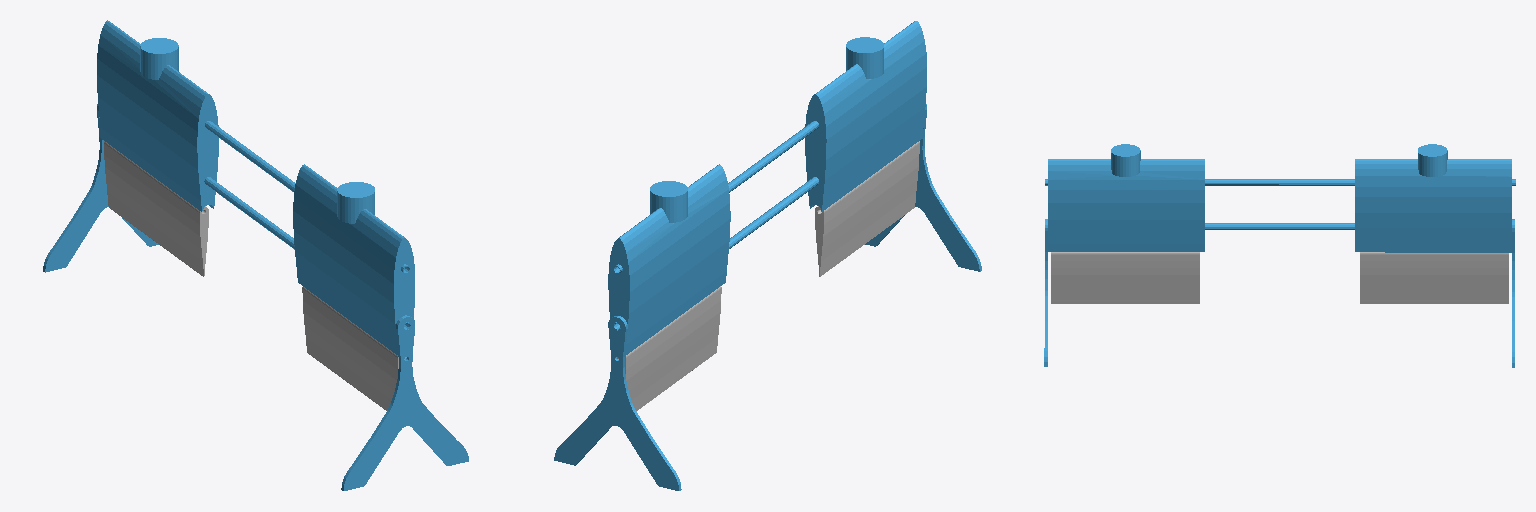
robot.urdf — tern:
<?xml version="1.0" ?>
<robot name="tern">
 <!-- <origin rpy="0 0 0" xyz="0 0 0.2"/> -->
   <link name="base_link"></link>
  <link name="base_link_inertia">
    <!-- <origin rpy="0 0 0" xyz="0 0 0.14"> -->
    <inertial>
      <mass value="0.5"/>
      <origin rpy="0  0  0" xyz="0     0     0.157"/>
      <inertia ixx="0.0147563" ixy="0" ixz="0" iyy="0.00638929" iyz="0" izz="0.0177"/>
    </inertial>
    <collision name="base_link_collision">
      <origin rpy="0  0  0" xyz="0    0    0"/>
      <geometry>
        <box size="0.15 0.63 0.28"/>
      </geometry>
    </collision>
    <visual name="base_link_visual">
      <origin rpy="0   -1.57  1.57" xyz="-0.116  0.345  -0.128"/>
      <geometry>
        <mesh filename="package://urdf_tutorial/meshes/frame.dae" scale="0.001 0.001 0.001"/>
      </geometry>
    </visual>
    <visual name="m0">
      <origin rpy="0  0  0" xyz="0    -0.205  0.13"/>
      <geometry>
        <cylinder length="0.03" radius="0.02"/>
      </geometry>
    </visual>
    <visual name="m1">
      <origin rpy="0  0  0" xyz="0     0.205  0.13"/>
      <geometry>
        <cylinder length="0.03" radius="0.02"/>
      </geometry>
    </visual>
  </link>
  <joint name="tern/base_joint" type="fixed">
    <parent link="base_link"/>
    <child link="base_link_inertia"/>
    <origin rpy="0  0  0" xyz="0 0 0"/>
  </joint>
  <link name="imu_link">
    <inertial>
      <mass value="0.015"/>
      <origin rpy="0  0  0" xyz="0  0  0"/>
      <inertia ixx="1e-05" ixy="0" ixz="0" iyy="1e-05" iyz="0" izz="1e-05"/>
    </inertial>
  </link>
  <link name="rotor_left">
    <inertial>
      <mass value="0.005"/>
      <origin rpy="0  0  0" xyz="0 -0.205 0.17"/>
      <!-- <inertia ixx="9.75e-07" ixy="0" ixz="0" iyy="0.000166704" iyz="0" izz="0.000167604"/> -->
      <inertia ixx="9.75e-07" ixy="0" ixz="0" iyy="0.000166704" iyz="0" izz="0.000167604"/>
    </inertial>
    <collision name="rotor_left_collision">
      <origin rpy="0  0  0" xyz="0 0 0"/>
      <geometry>
        <cylinder length="0.005" radius="0.1"/>
      </geometry>
    </collision>
    <visual name="rotor_left_visual">
      <origin rpy="0  0  0" xyz="0.00059  -0 0"/>
      <geometry>
        <mesh filename="package://urdf_tutorial/meshes/iris_prop_cw.dae" scale="1 1 1"/>
      </geometry>
    </visual>
  </link>
  <link name="rotor_right">
    <inertial>
      <mass value="0.005"/>
      <origin rpy="0  0  0" xyz="0 0.205 0.17"/>
      <!-- <inertia ixx="9.75e-07" ixy="0" ixz="0" iyy="0.000166704" iyz="0" izz="0.000167604"/> -->
      <inertia ixx="9.75e-07" ixy="0" ixz="0" iyy="0.000166704" iyz="0" izz="0.000167604"/>
    </inertial>
    <collision name="rotor_right_collision">
      <origin rpy="0  0  0" xyz="0 0 0"/>
      <geometry>
        <cylinder length="0.005" radius="0.1"/>
      </geometry>
    </collision>
    <visual name="rotor_right_visual">
      <origin rpy="0  0  0" xyz="0.00449 0 0"/>
      <geometry>
        <mesh filename="package://urdf_tutorial/meshes/iris_prop_ccw.dae" scale="1 1 1"/>
      </geometry>
    </visual>
  </link>
  <link name="left_elevon">
    <inertial>
      <mass value="0.001"/>
      <origin rpy="0  0  0" xyz="0      -0.225    0"/>
      <inertia ixx="0.0001" ixy="0.0" ixz="0.0" iyy="0.0001" iyz="0.0" izz="0.0001"/>
    </inertial>
    <visual name="left_elevon_visual">
      <origin rpy="0    1.57079  1.57079" xyz="0.005 -0.31  0.133"/>
      <geometry>
        <mesh filename="package://urdf_tutorial/meshes/elevon_2.dae" scale="0.001 0.001 0.001"/>
      </geometry>
    </visual>
    <!--
    <collision>
        <origin rpy="0 0 0" xyz="0 -0.31 0.13"/>
        <geometry>
            <box size="0.0114356 0.19935 0.0811021" />
        </geometry>
    </collision>
    -->
  </link>
  <link name="right_elevon">
    <inertial>
      <mass value="0.001"/>
      <origin rpy="0  0  0" xyz="0       0.225    0"/>
      <inertia ixx="0.0001" ixy="0.0" ixz="0.0" iyy="0.0001" iyz="0.0" izz="0.0001"/>
    </inertial>
    <visual name="right_elevon_visual">
      <origin rpy="0    1.57079  1.57079" xyz="0.005 -0.347 0.133"/>
      <geometry>
        <mesh filename="package://urdf_tutorial/meshes/elevon_2.dae" scale="0.001 0.001 0.001"/>
      </geometry>
    </visual>
    <!--
    <collision>
        <origin rpy="0 0 0" xyz="0 0.31 0.13"/>
        <geometry>
            <box size="0.0114356 0.19935 0.0811021" />
        </geometry>
    </collision>
    -->
  </link>
  <joint name="tern/imu_joint" type="fixed">
    <parent link="base_link"/>
    <child link="imu_link"/>
    <origin rpy="0  0  0" xyz="0     0     0"/>
    <axis xyz="0  0  0"/>
    <limit effort="0" lower="0" upper="0" velocity="0"/>
  </joint>
  <joint name="left_rotor_joint" type="continuous">
    <parent link="base_link"/>
    <child link="rotor_left"/>
    <origin rpy="0  0  0" xyz="0    -0.205  0.152"/>
    <axis xyz="0  0  1"/>
    <limit effort="1.0" lower="-1000" upper="1000" velocity="1000.0"/>
    <!-- <dynamics damping="0.01" friction="0.0" /> -->
  </joint>
  <joint name="right_rotor_joint" type="continuous">
    <parent link="base_link"/>
    <child link="rotor_right"/>
    <origin rpy="0  0  0" xyz="0     0.205  0.152"/>
    <axis xyz="0  0  1"/>
    <limit effort="1.0" lower="-1000" upper="1000" velocity="1000.0"/>
    <!-- <dynamics damping="0.01" friction="0.0" /> -->
  </joint>
  <joint name="left_elevon_joint" type="revolute">
    <parent link="base_link"/>
    <child link="left_elevon"/>
    <origin rpy="0  0  0" xyz="0   -0.225325  -0.005"/>
    <axis xyz="0  1  0"/>
    <limit effort="0.1" lower="-1.57" upper="1.57" velocity="100.0"/>
  </joint>
  <joint name="right_elevon_joint" type="revolute">
    <parent link="base_link"/>
    <child link="right_elevon"/>
    <origin rpy="0  0  0" xyz="0    0.225325  -0.005"/>
    <axis xyz="0  1  0"/>
    <limit effort="0.1" lower="-1.57" upper="1.57" velocity="100.0"/>
  </joint>
  
  <transmission name="left_rotor_tran">
    <type>transmission_interface/SimpleTransmission</type>
    <joint name="left_rotor_joint">
        <hardwareInterface>hardware_interface/EffortJointInterface</hardwareInterface>
    </joint>
    <actuator name="left_rotor_actuator">
        <hardwareInterface>hardware_interface/EffortActuatorInterface</hardwareInterface>
    </actuator>
  </transmission>
  
  <transmission name="right_rotor_tran">
    <type>transmission_interface/SimpleTransmission</type>
    <joint name="right_rotor_joint">
        <hardwareInterface>hardware_interface/EffortJointInterface</hardwareInterface>
    </joint>
    <actuator name="right_rotor_actuator">
        <hardwareInterface>hardware_interface/EffortActuatorInterface</hardwareInterface>
    </actuator>
  </transmission>
  
  <transmission name="left_elevon_tran">
    <type>transmission_interface/SimpleTransmission</type>
    <joint name="left_elevon_joint">
        <hardwareInterface>hardware_interface/EffortJointInterface</hardwareInterface>
    </joint>
    <actuator name="left_elevon_actuator">
        <hardwareInterface>hardware_interface/EffortJointInterface</hardwareInterface>
        <mechanicalReduction>1</mechanicalReduction>
    </actuator>
  </transmission>
  
  <transmission name="right_elevon_tran">
    <type>transmission_interface/SimpleTransmission</type>
    <joint name="right_elevon_joint">
        <hardwareInterface>hardware_interface/EffortJointInterface</hardwareInterface>
    </joint>
    <actuator name="right_elevon_actuator">
        <hardwareInterface>hardware_interface/EffortJointInterface</hardwareInterface>
        <mechanicalReduction>1</mechanicalReduction>
    </actuator>
  </transmission>
  
  <gazebo>
  <plugin name="gazebo_ros_control" filename="libgazebo_ros_control.so">
    <robotNamespace>/tern</robotNamespace>
  </plugin>
</gazebo>

    <gazebo reference="base_link_inertia">
        <plugin name="left_wing" filename="libLiftDragPlugin.so">
          <a0>0.05984281113</a0>
          <cla>4.752798721</cla>
          <cda>0.6417112299</cda>
          <cma>-1.8</cma>
          <alpha_stall>0.6391428111</alpha_stall>
          <cla_stall>-3.85</cla_stall>
          <cda_stall>-0.9233984055</cda_stall>
          <cma_stall>0</cma_stall>
          <cp>0 0.3 0.0</cp>
          <area>0.15</area>
          <air_density>1.2041</air_density>
          <forward>0 0 1</forward>
          <upward>1 0 0</upward>
          <link_name>base_link_inertia</link_name>
          <control_joint_name>
            left_elevon_joint
          </control_joint_name>
          <control_joint_rad_to_cl>-0.5</control_joint_rad_to_cl>
        </plugin>
        <plugin name="right_wing" filename="libLiftDragPlugin.so">
          <a0>0.05984281113</a0>
          <cla>4.752798721</cla>
          <cda>0.6417112299</cda>
          <cma>-1.8</cma>
          <alpha_stall>0.6391428111</alpha_stall>
          <cla_stall>-3.85</cla_stall>
          <cda_stall>-0.9233984055</cda_stall>
          <cma_stall>0</cma_stall>
          <cp>0 -0.3 -0.0</cp>
          <area>0.15</area>
          <air_density>1.2041</air_density>
          <forward>0 0 1</forward>
          <upward>1 0 0</upward>
          <link_name>base_link_inertia</link_name>
          <control_joint_name>
            right_elevon_joint
          </control_joint_name>
          <control_joint_rad_to_cl>-0.5</control_joint_rad_to_cl>
        </plugin>
    </gazebo>

    <gazebo reference="imu_link">
        <plugin name='rotors_gazebo_imu_plugin' filename='libgazebo_imu_plugin.so'>
          <robotNamespace></robotNamespace>
          <linkName>imu_link</linkName>
          <imuTopic>/imu</imuTopic>
          <gyroscopeNoiseDensity>0.0003394</gyroscopeNoiseDensity>
          <gyroscopeRandomWalk>3.8785e-05</gyroscopeRandomWalk>
          <gyroscopeBiasCorrelationTime>1000.0</gyroscopeBiasCorrelationTime>
          <gyroscopeTurnOnBiasSigma>0.0087</gyroscopeTurnOnBiasSigma>
          <accelerometerNoiseDensity>0.004</accelerometerNoiseDensity>
          <accelerometerRandomWalk>0.006</accelerometerRandomWalk>
          <accelerometerBiasCorrelationTime>300.0</accelerometerBiasCorrelationTime>
          <accelerometerTurnOnBiasSigma>0.196</accelerometerTurnOnBiasSigma>
        </plugin>
    </gazebo>

    <gazebo>
    <!--
        <plugin name='left_motor_model' filename='libgazebo_motor_model.so'>
          <robotNamespace></robotNamespace>
          <jointName>left_rotor_joint</jointName>
          <linkName>rotor_left</linkName>
          <turningDirection>cw</turningDirection>
          <timeConstantUp>0.016</timeConstantUp>
          <timeConstantDown>0.020</timeConstantDown>
          <maxRotVelocity>800</maxRotVelocity>
          <motorConstant>7.864e-06</motorConstant>
          <momentConstant>0.023</momentConstant>
          <commandSubTopic>/gazebo/command/motor_speed</commandSubTopic>
          <motorNumber>1</motorNumber>
          <rotorDragCoefficient>0</rotorDragCoefficient>
          <rollingMomentCoefficient>0</rollingMomentCoefficient>
          <motorSpeedPubTopic>/motor_speed/0</motorSpeedPubTopic>
          <rotorVelocitySlowdownSim>20</rotorVelocitySlowdownSim>
        </plugin>
        
        <plugin name='right_motor_model' filename='libgazebo_motor_model.so'>
          <robotNamespace></robotNamespace>
          <jointName>right_rotor_joint</jointName>
          <linkName>rotor_right</linkName>
          <turningDirection>ccw</turningDirection>
          <timeConstantUp>0.016</timeConstantUp>
          <timeConstantDown>0.020</timeConstantDown>
          <maxRotVelocity>800</maxRotVelocity>
          <motorConstant>7.864e-06</motorConstant>
          <momentConstant>0.023</momentConstant>
          <commandSubTopic>/gazebo/command/motor_speed</commandSubTopic>
          <motorNumber>0</motorNumber>
          <rotorDragCoefficient>0</rotorDragCoefficient>
          <rollingMomentCoefficient>0</rollingMomentCoefficient>
          <motorSpeedPubTopic>/motor_speed/1</motorSpeedPubTopic>
          <rotorVelocitySlowdownSim>20</rotorVelocitySlowdownSim>
        </plugin>
        
        -->
        <!-- <plugin name='rotors_gazebo_imu_plugin' filename='librotors_gazebo_imu_plugin.so'> -->
        

        <plugin name="gps_plugin" filename="libgazebo_gps_plugin.so">
            <robotNamespace></robotNamespace>
            <gpsNoise>true</gpsNoise>
        </plugin>
        <plugin name='magnetometer_plugin' filename='libgazebo_magnetometer_plugin.so'>
          <robotNamespace/>
          <pubRate>20</pubRate>
          <noiseDensity>0.0004</noiseDensity>
          <randomWalk>6.4e-06</randomWalk>
          <biasCorrelationTime>600</biasCorrelationTime>
          <magTopic>/mag</magTopic>
        </plugin>
        <plugin name='barometer_plugin' filename='libgazebo_barometer_plugin.so'>
          <robotNamespace/>
          <pubRate>10</pubRate>
          <baroTopic>/baro</baroTopic>
        </plugin>
        
    </gazebo>  
</robot>

--- Facts derived from the render (not from the file) ---
Views: 3 orthographic renders of the robot side by side, from view 1: azimuth 30°, elevation 25°; view 2: azimuth 150°, elevation 25°; view 3: azimuth 270°, elevation 25°.
Robot: tern — 7 links, 6 joints (2 revolute, 2 continuous, 2 fixed); root link base_link; default pose: all joints at 0.
Links seen in each view (by area): view 1: base_link_inertia, right_elevon, left_elevon; view 2: base_link_inertia, left_elevon, right_elevon; view 3: base_link_inertia, left_elevon, right_elevon.
Boxes of the visible links, <box> form: base_link_inertia: <box>43,20,468,490</box>; right_elevon: <box>104,141,208,276</box>; left_elevon: <box>302,287,406,410</box>; base_link_inertia: <box>554,21,981,490</box>; left_elevon: <box>815,141,919,276</box>; right_elevon: <box>617,286,721,410</box>; base_link_inertia: <box>1044,144,1515,367</box>; left_elevon: <box>1051,252,1199,303</box>; right_elevon: <box>1360,252,1508,303</box>.
Bounding box of the posed robot: 0.1528 × 0.6293 × 0.2858 m (x, y, z).
Meshes: 4 distinct files referenced, 3 mesh visuals loaded (2 Collada DAE); not drawn: 2 (reference not matched to a file when rendering).